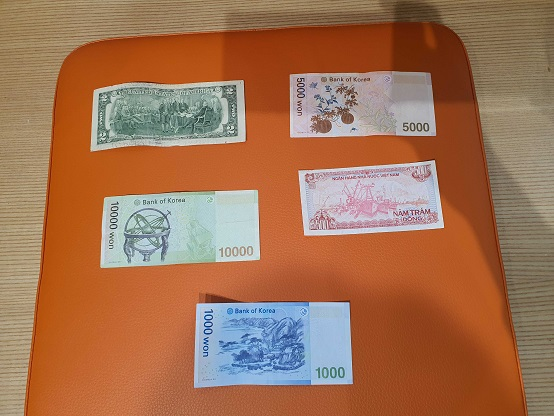10000won: (99, 192, 261, 267)
1000won: (193, 302, 353, 384)
2dollar: (90, 80, 247, 150)
5000won: (290, 70, 437, 139)
500vnd: (297, 159, 446, 234)
